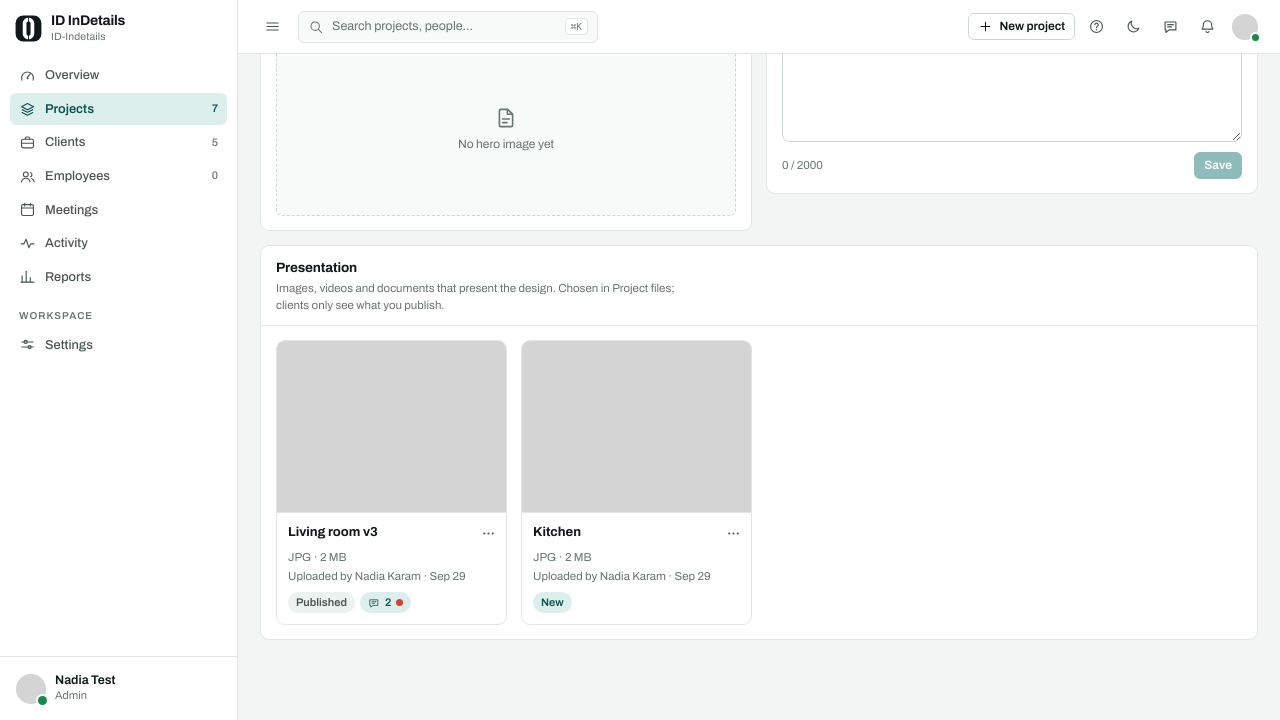
Scenario: the content cards › show a published file's comments and whether some are new, and lead to them
(page scrolled)
Click the link named "Comments on Living room v3: 2, some new" at (386, 603), box x1=360 y1=592 x2=411 y2=613
(page scrolled)
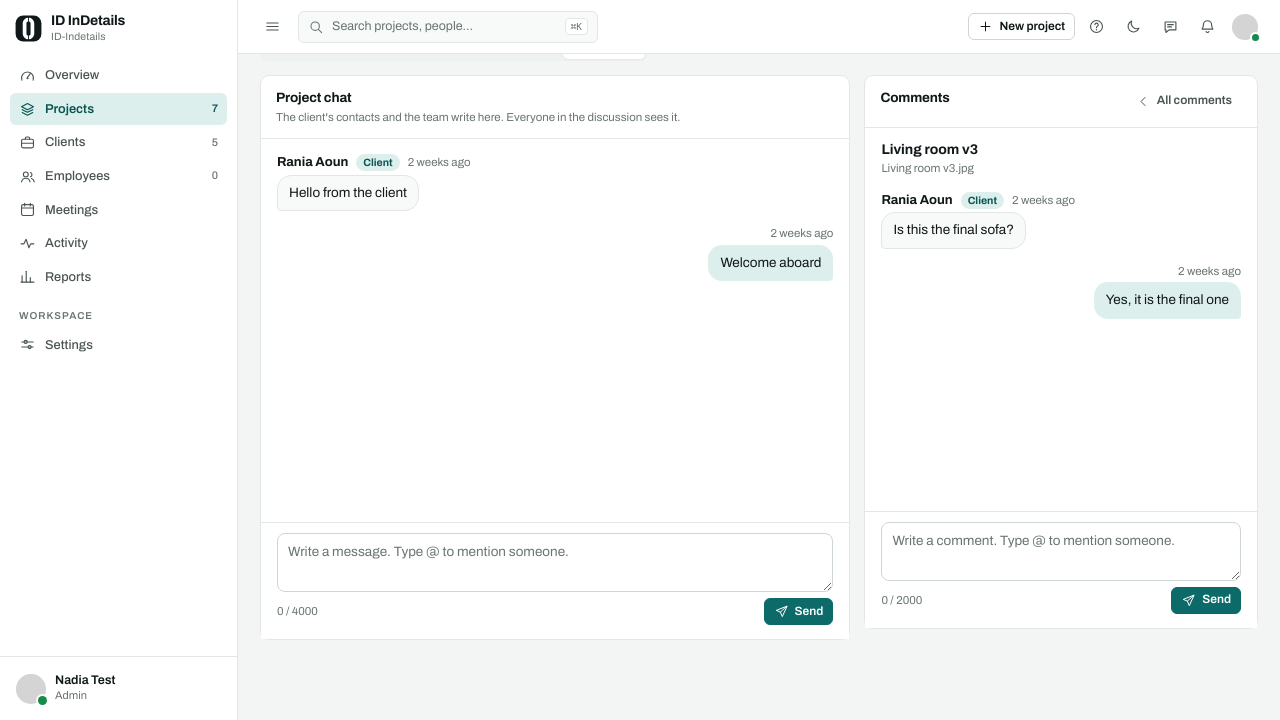
Expected: the text "Is this the final sofa?" is shown, x1=893 y1=220 x2=1014 y2=241
